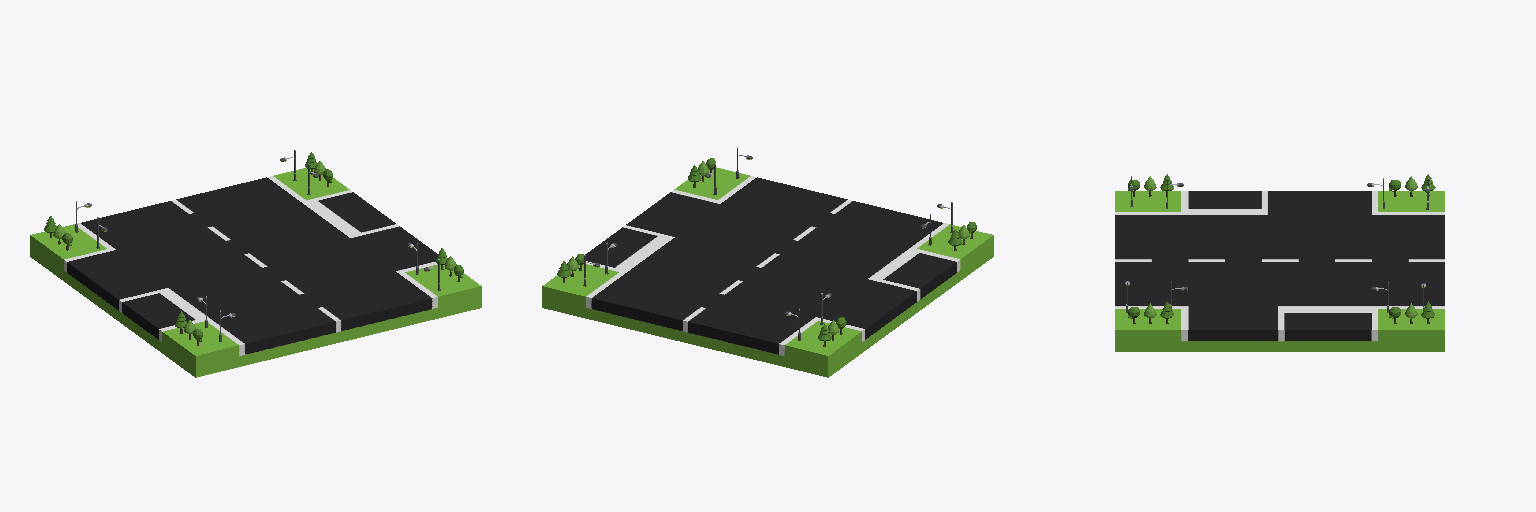
The picture shows the model from 3 angles: view 1: azimuth 30°, elevation 25°; view 2: azimuth 150°, elevation 25°; view 3: azimuth 270°, elevation 25°; orthographic projection.
Visible parts, largest first — view 1: Object126; view 2: Object126; view 3: Object126.
Part boxes in pixels (left/top/right/bottom): Object126: left=30, top=150, right=481, bottom=377; Object126: left=542, top=147, right=993, bottom=377; Object126: left=1115, top=174, right=1444, bottom=351.
Size of the model in its own units: 2252 by 397 by 2252.
1 materials, 1 textured.